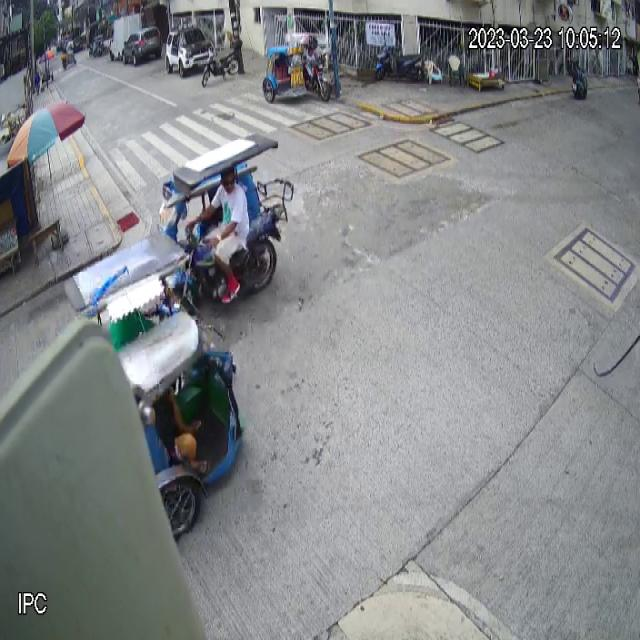Tricycle: (64, 225, 240, 540), (157, 131, 295, 307), (262, 31, 331, 103)
